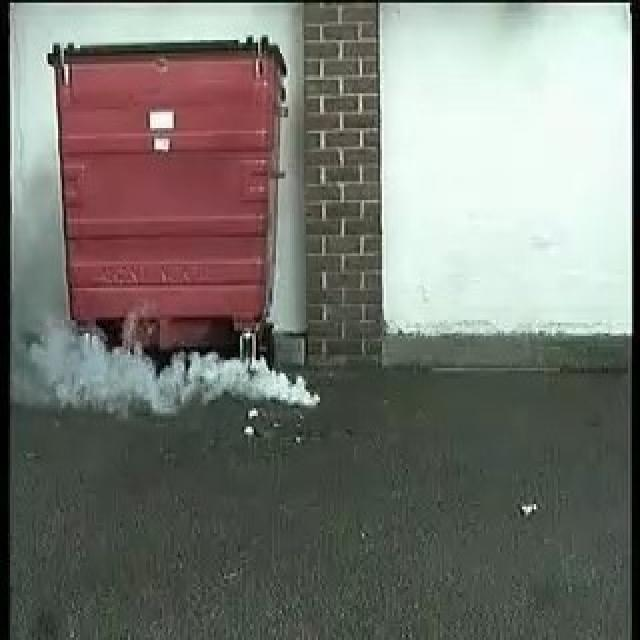smoke: (31, 323, 325, 425)
